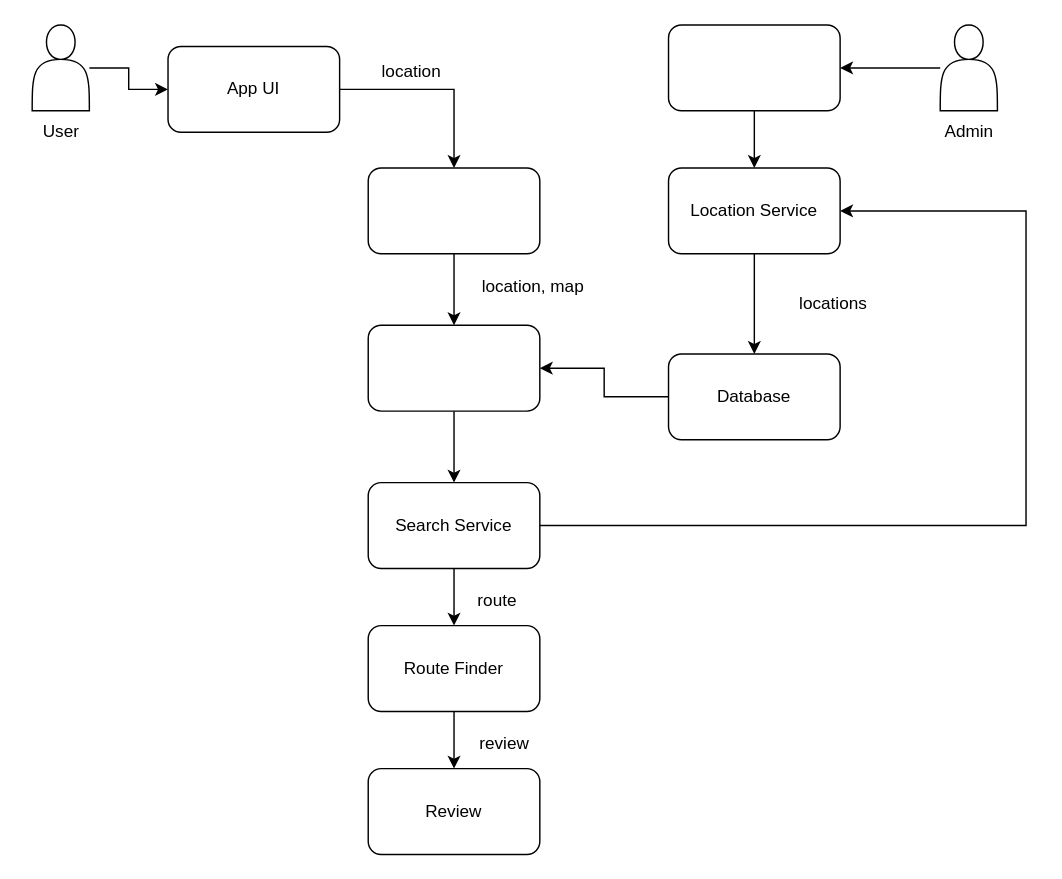
The diagram is 1062 pixels wide and 879 high, and some of its shapes have lost their labels. The box of each missing label's shape, as (x1, y1, x2, y2) in pixels:
Admin Service: (667, 24, 840, 111)
Open Street Map: (367, 324, 540, 411)
User Management: (367, 167, 540, 254)
